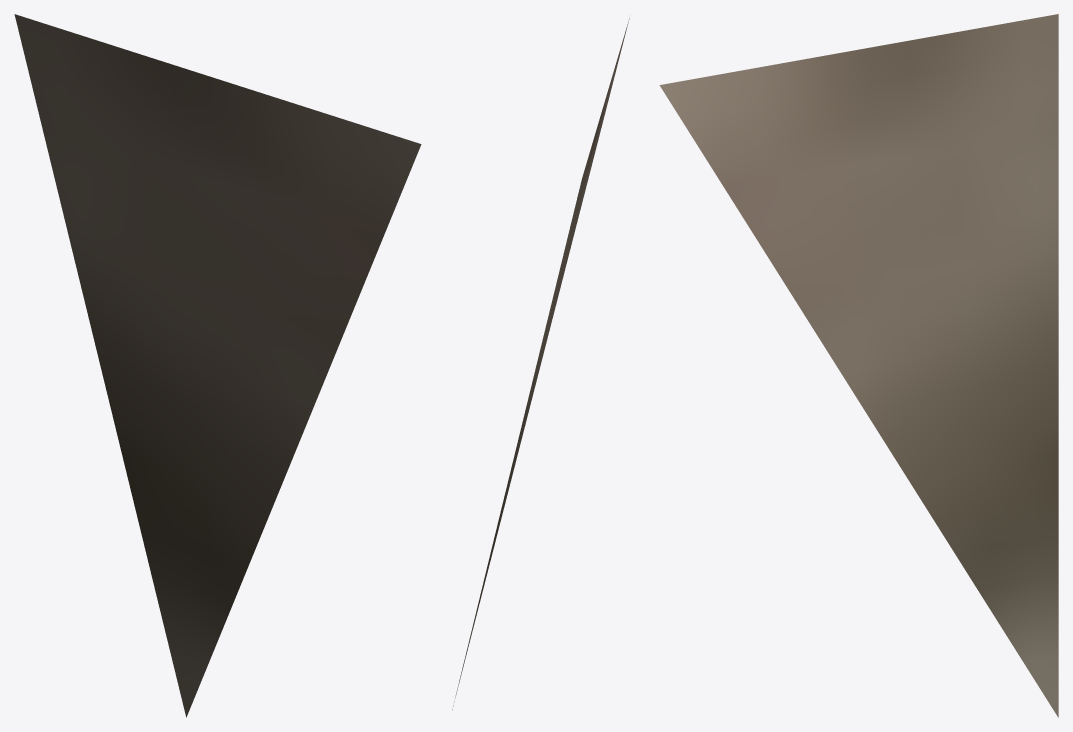
The picture shows the model from 3 angles, left to right: view 1: azimuth 30°, elevation 25°; view 2: azimuth 150°, elevation 25°; view 3: azimuth 270°, elevation 25°; orthographic projection. The views are drawn at different scales.
Bounding box in the file's own units: 0.0461 × 0.1912 × 0.1092.
1 material, 1 textured.
